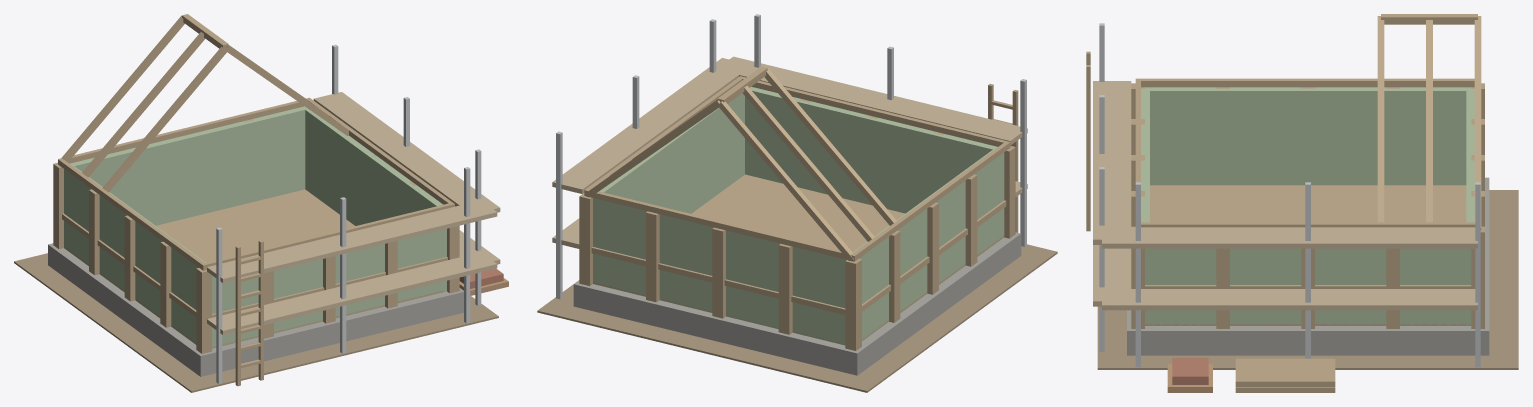
File: bloom_garden_site_8.glb
The picture shows the model from 3 angles, left to right: view 1: azimuth 30°, elevation 25°; view 2: azimuth 150°, elevation 25°; view 3: azimuth 270°, elevation 25°; orthographic projection. The views are drawn at different scales.
Visible parts, largest first — view 1: body; view 2: body; view 3: body.
Boxes of the visible parts, x1,y1,x2,y2 form: body: [14, 14, 508, 392]; body: [537, 14, 1057, 392]; body: [1086, 14, 1518, 392].
Bounding box in the file's own units: 2.1 × 1.29 × 1.91.
